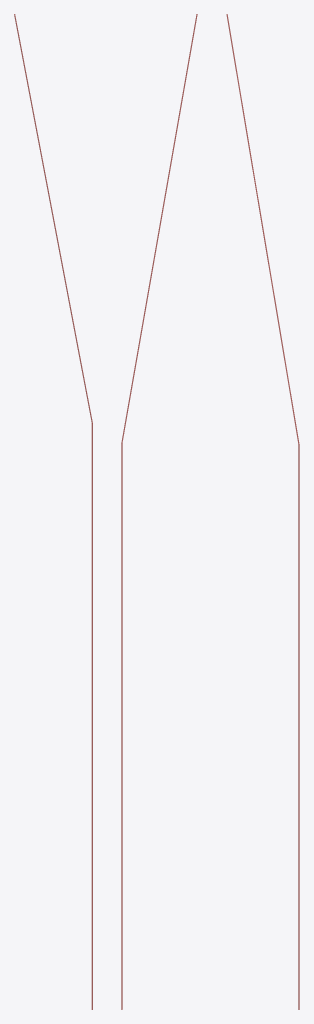
The model's file is optical_bench_beam.glb.
3 views of the same model, side by side, from view 1: azimuth 30°, elevation 25°; view 2: azimuth 210°, elevation 25°; view 3: azimuth 330°, elevation 25° (orthographic). The views are drawn at different scales.
Parts seen in each view (by area): view 1: OB_BEAM_seg1, OB_BEAM_seg2; view 2: OB_BEAM_seg1, OB_BEAM_seg2; view 3: OB_BEAM_seg1, OB_BEAM_seg2.
Part boxes in pixels (bbox=[...]): OB_BEAM_seg1: bbox=[91, 423, 92, 1009]; OB_BEAM_seg2: bbox=[14, 14, 92, 423]; OB_BEAM_seg1: bbox=[121, 443, 122, 1009]; OB_BEAM_seg2: bbox=[121, 14, 197, 443]; OB_BEAM_seg1: bbox=[298, 444, 299, 1009]; OB_BEAM_seg2: bbox=[226, 14, 299, 444].
Bounding box in the file's own units: 0.1136 × 1.42 × 0.0056.
